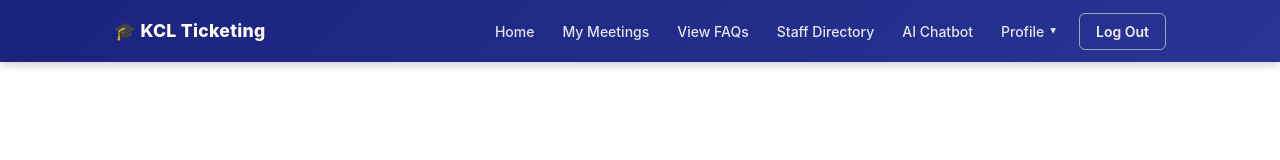
Test case: UserNavbar — Profile dropdown › dropdown closes when the Profile button is clicked again
The width and height of the screenshot is (1280, 160).
Click the button "Profile ▾" at (1028, 31), box [988,12,1069,50]
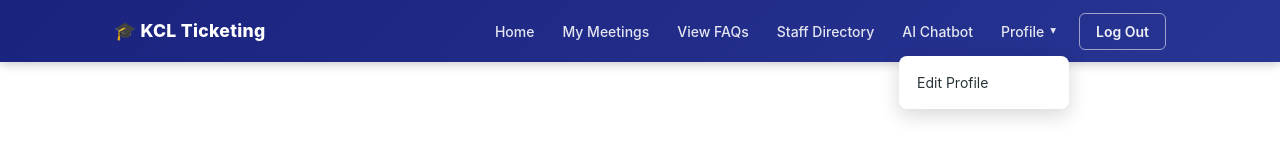
Expected: the menu is shown, [899,56,1069,108]
Click the button "Profile ▾" at (1028, 31), box [988,12,1069,50]
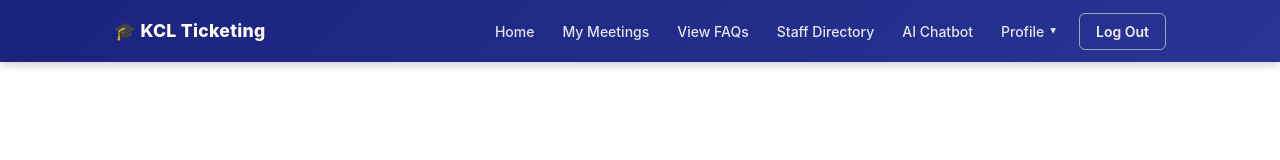
Expected: the menu is gone
